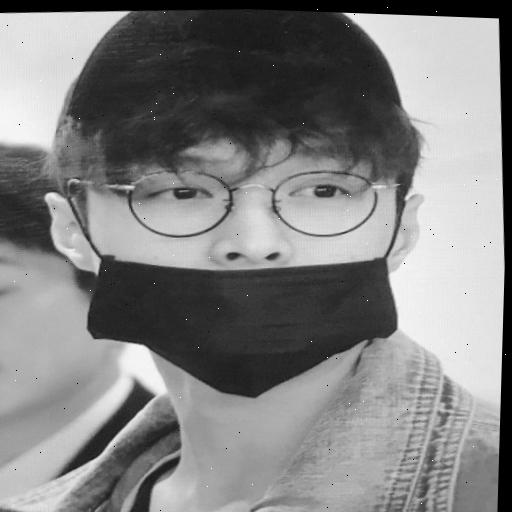mask: (18, 1, 451, 412)
